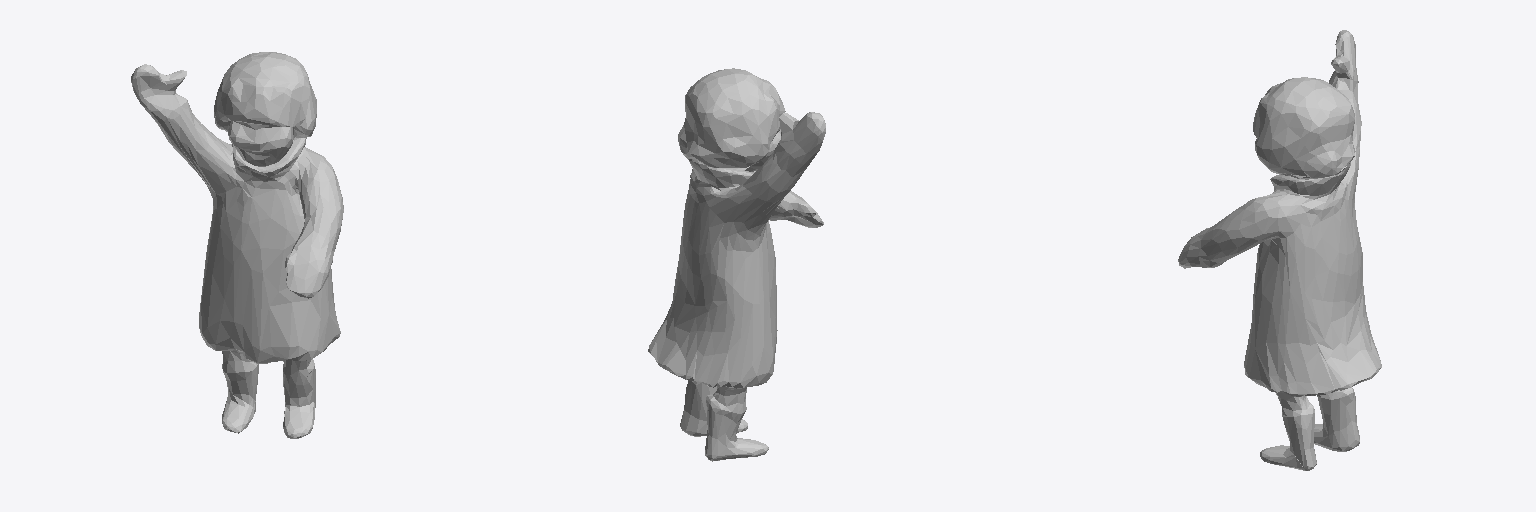
The model's file is keka.obj.
3 renders of one model, left to right at view 1: azimuth 30°, elevation 25°; view 2: azimuth 150°, elevation 25°; view 3: azimuth 270°, elevation 25°, orthographic.
Size of the model in its own units: 0.406 by 0.7971 by 0.3951.